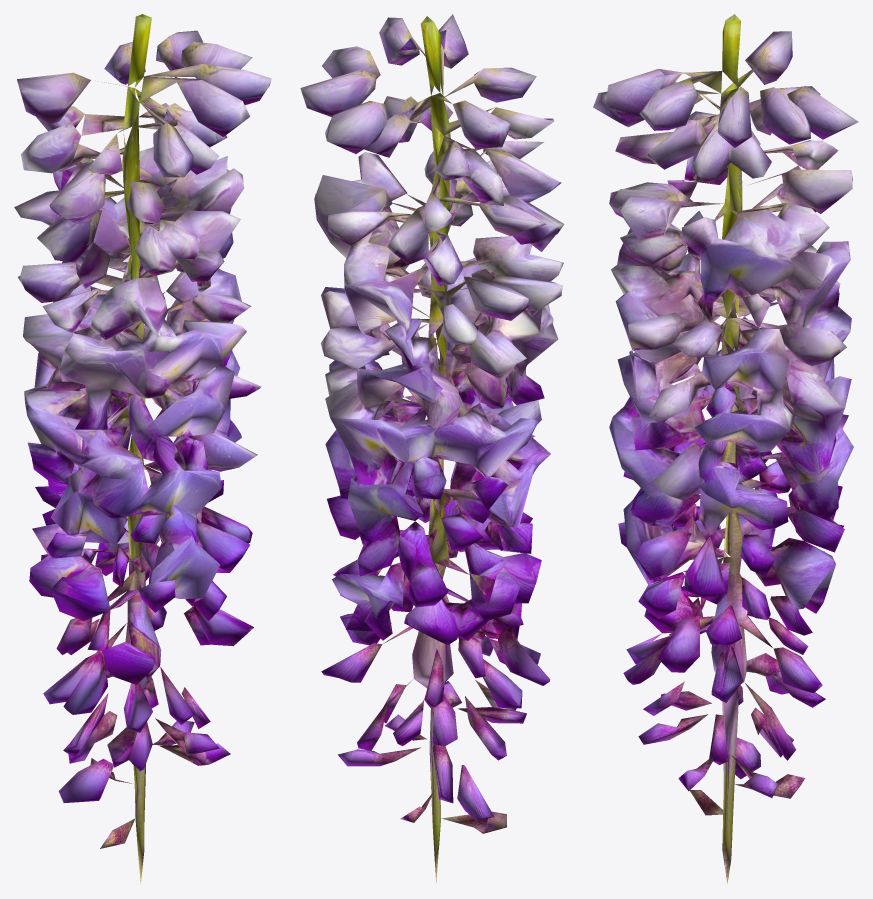
Rendered from wisteria.glb.
The picture shows the model from 3 angles, left to right: view 1: azimuth 30°, elevation 25°; view 2: azimuth 150°, elevation 25°; view 3: azimuth 270°, elevation 25°; orthographic projection.
Bounding box in the file's own units: 0.4967 × 1.83 × 0.5058.
1 material, 1 textured.
